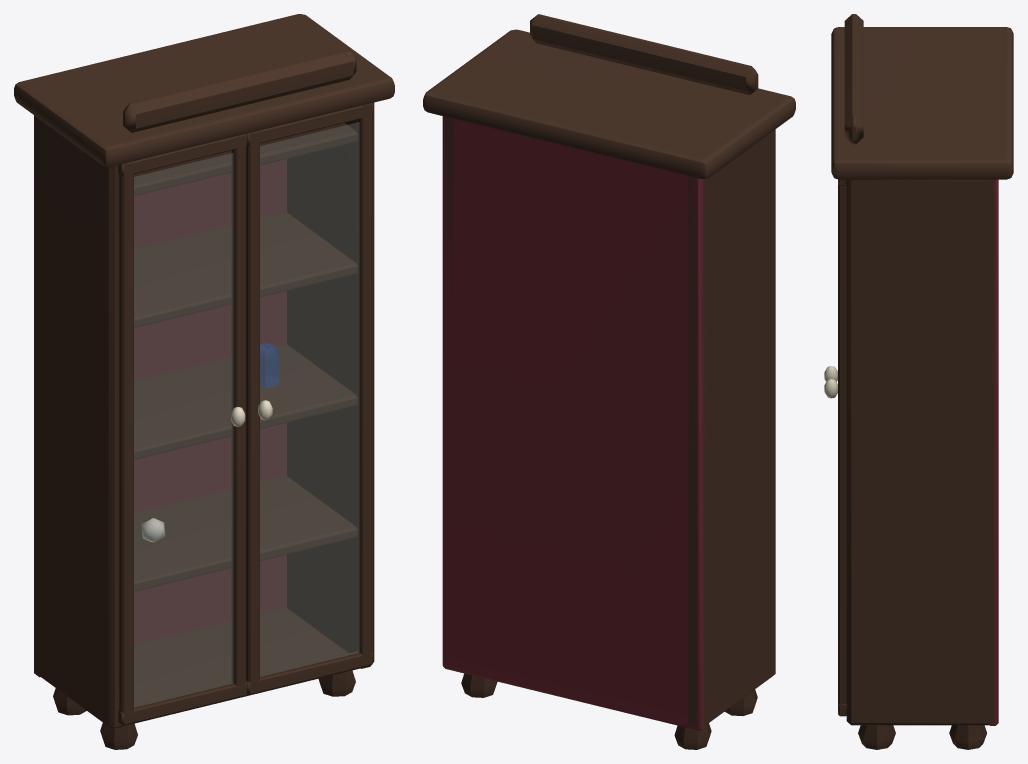
File: shelf_curio.glb
3 views of the same model, side by side, from view 1: azimuth 30°, elevation 25°; view 2: azimuth 150°, elevation 25°; view 3: azimuth 270°, elevation 25° (orthographic). The views are drawn at different scales.
Visible parts, largest first — view 1: shelf_curio, glass; view 2: shelf_curio; view 3: shelf_curio.
Part boxes in pixels (x1,y1,x2,y2): shelf_curio: (14,14,394,749); glass: (134,122,359,707); shelf_curio: (423,14,795,749); shelf_curio: (824,14,1013,749).
Bounding box in the file's own units: 0.86 × 1.82 × 0.499.
